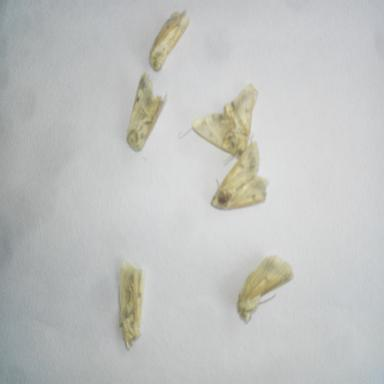abw: (177, 79, 263, 168), (208, 136, 272, 214), (234, 250, 296, 328), (124, 67, 170, 154), (147, 4, 198, 74), (114, 254, 148, 352)
